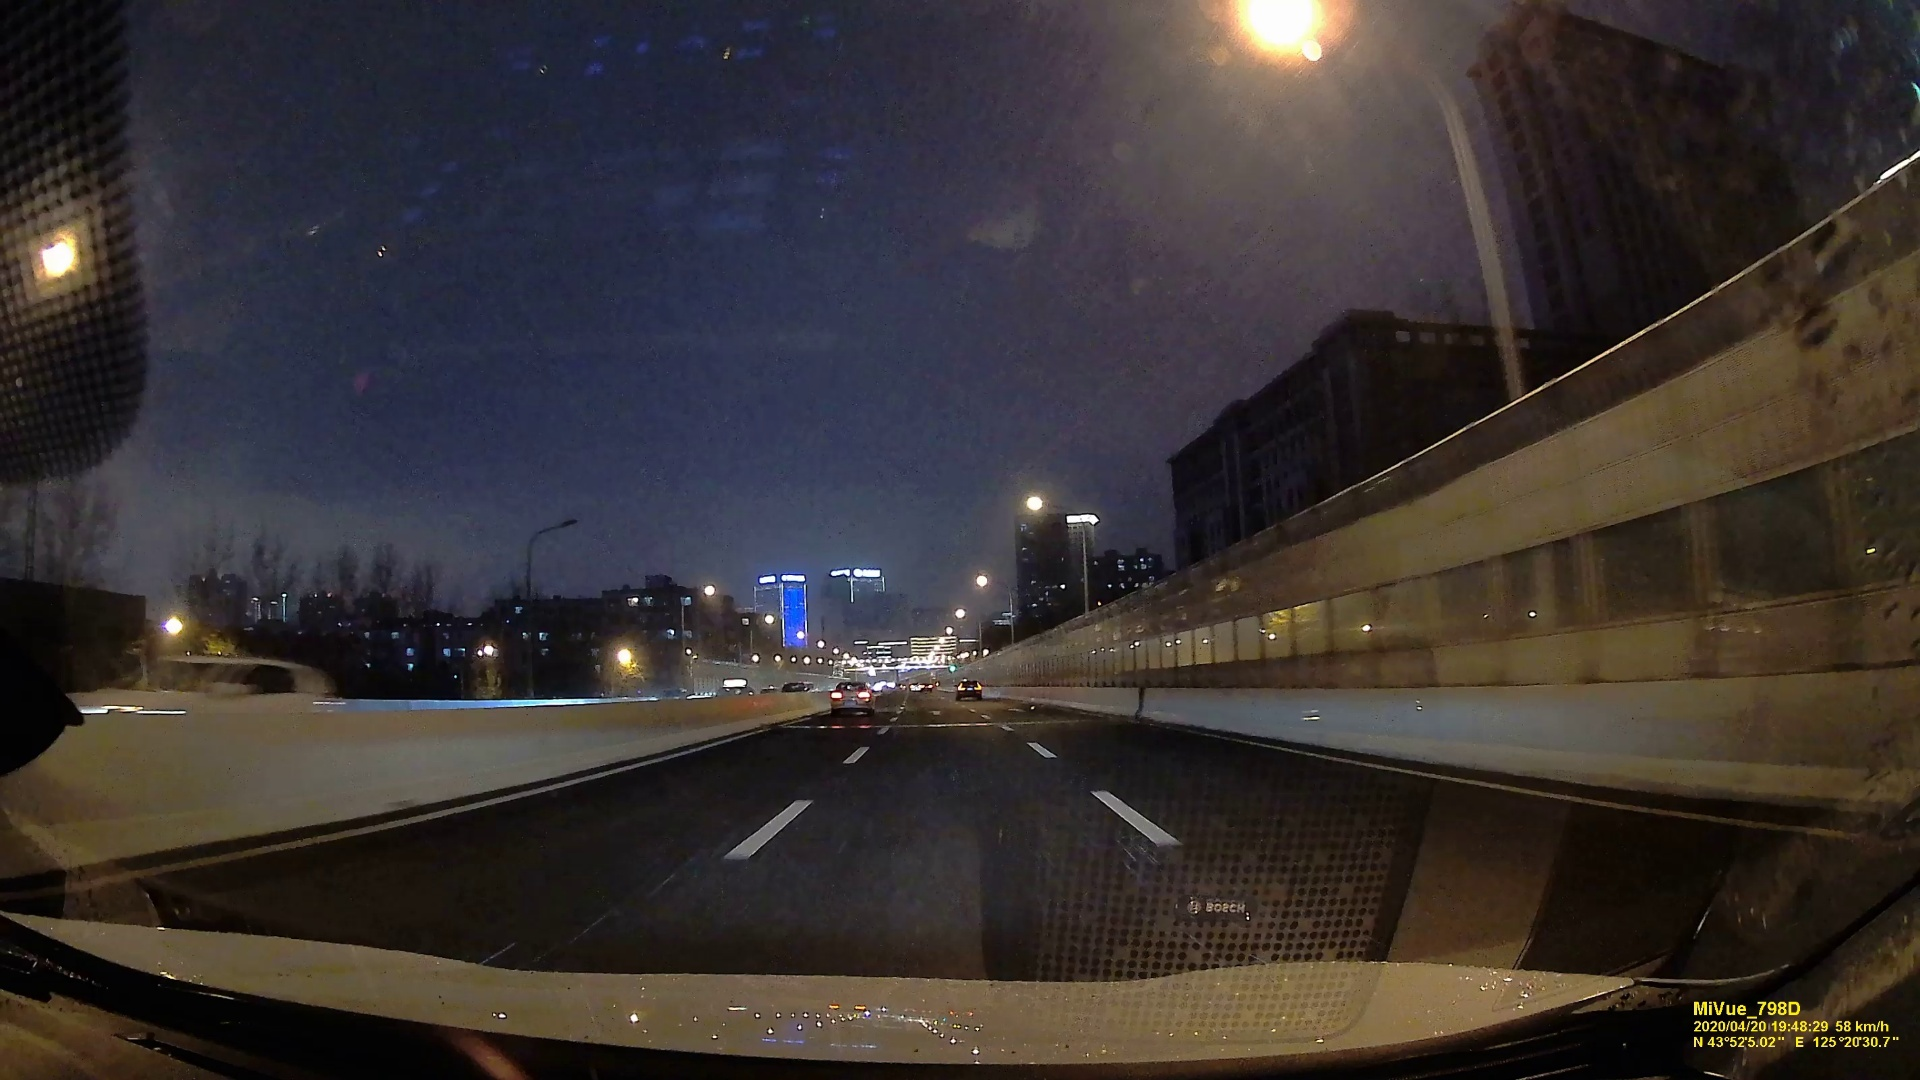vehicle: (828, 682, 876, 713), (955, 680, 984, 700)
